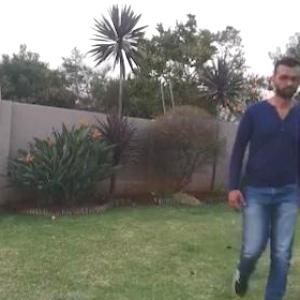follow: (239, 74, 299, 299)
